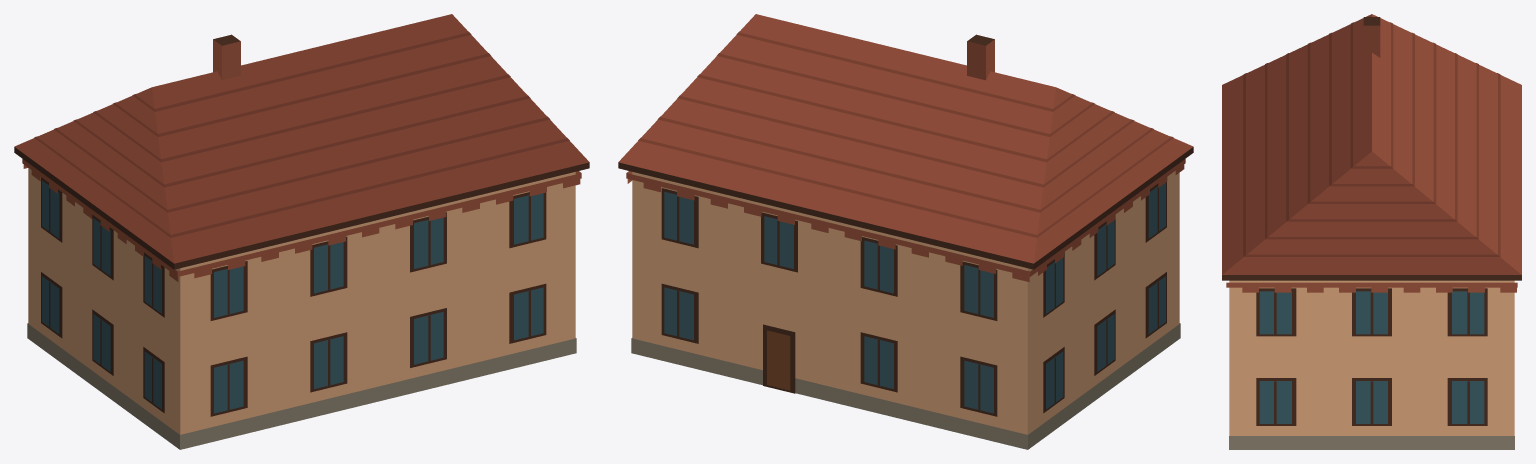
The model's file is house-brick-cornice.glb.
3 views of the same model, side by side, from view 1: azimuth 30°, elevation 25°; view 2: azimuth 150°, elevation 25°; view 3: azimuth 270°, elevation 25° (orthographic). The views are drawn at different scales.
Parts seen in each view (by area): view 1: House Brick cornice; view 2: House Brick cornice; view 3: House Brick cornice.
Boxes of the visible parts, box(x1,y1,x2,y2) form: House Brick cornice: box(14, 14, 589, 449); House Brick cornice: box(618, 14, 1193, 449); House Brick cornice: box(1222, 14, 1521, 449).
Bounding box in the file's own units: 15.92 × 11.85 × 10.61.
